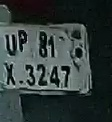1: (47, 35, 59, 60)
2: (34, 61, 49, 88)
3: (23, 61, 38, 88)
4: (48, 66, 62, 90)
7: (60, 64, 74, 90)
8: (35, 29, 50, 60)
P: (16, 28, 29, 57)
U: (2, 32, 18, 60)
X: (2, 61, 18, 88)
